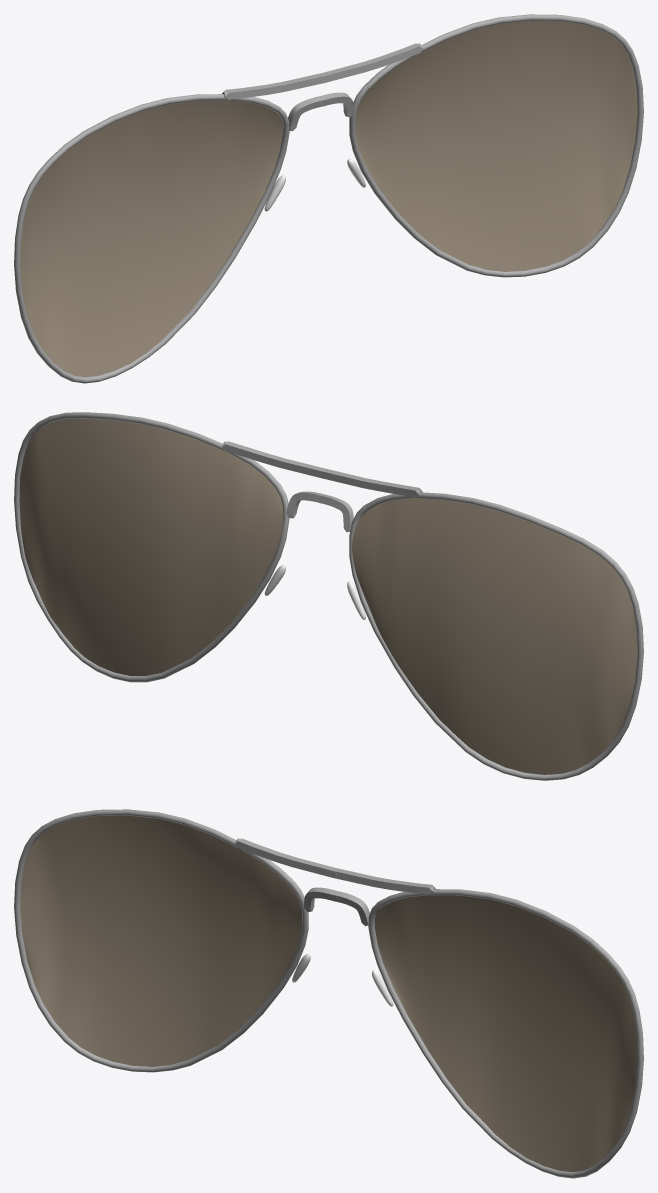
File: glassesRanger.fbx
3 views of the same model, one above another, from view 1: azimuth 30°, elevation 25°; view 2: azimuth 150°, elevation 25°; view 3: azimuth 330°, elevation 25° (orthographic).
Parts seen in each view (by area): view 1: c0001.61407; view 2: c0001.61407; view 3: c0001.61407.
Part boxes in pixels (left/top/right/bottom): c0001.61407: left=14, top=14, right=643, bottom=383; c0001.61407: left=14, top=412, right=643, bottom=780; c0001.61407: left=14, top=809, right=643, bottom=1178.
Bounding box in the file's own units: 145 × 58.63 × 8.
